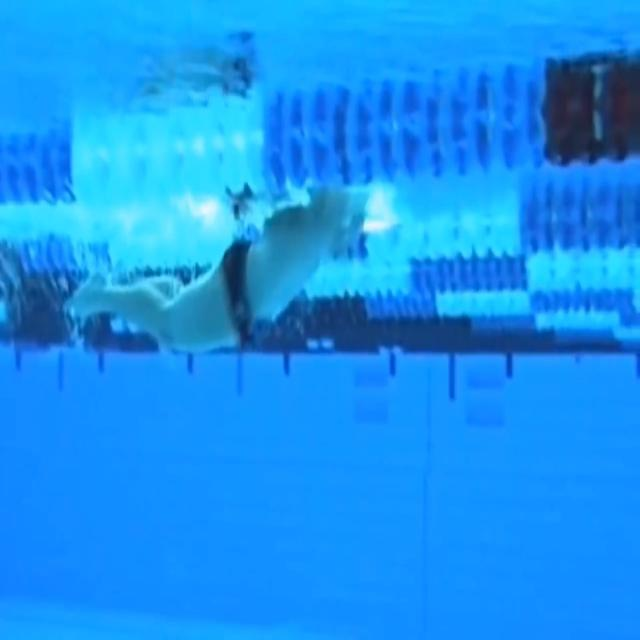Swimming: (64, 181, 372, 355)
